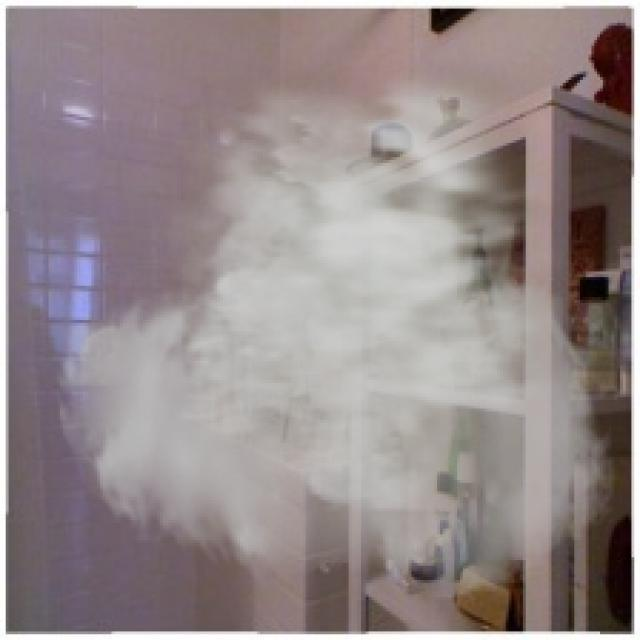Smoke: (51, 46, 620, 603)
